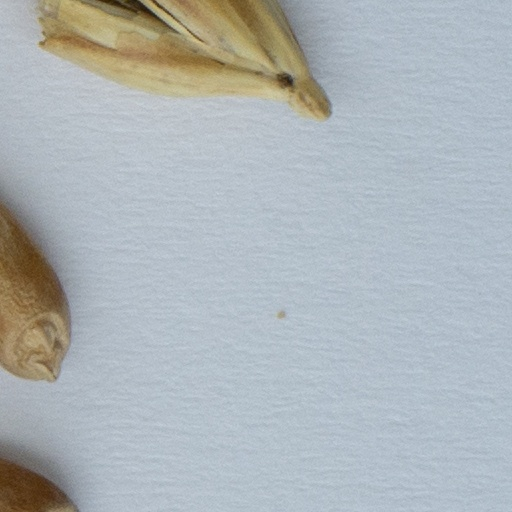Peel-poly: (32, 0, 329, 122)
